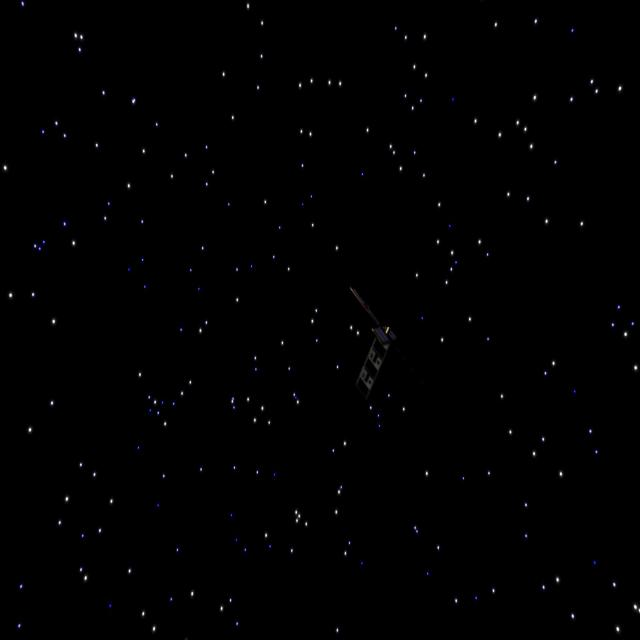medium_debris: (350, 288, 406, 399)
